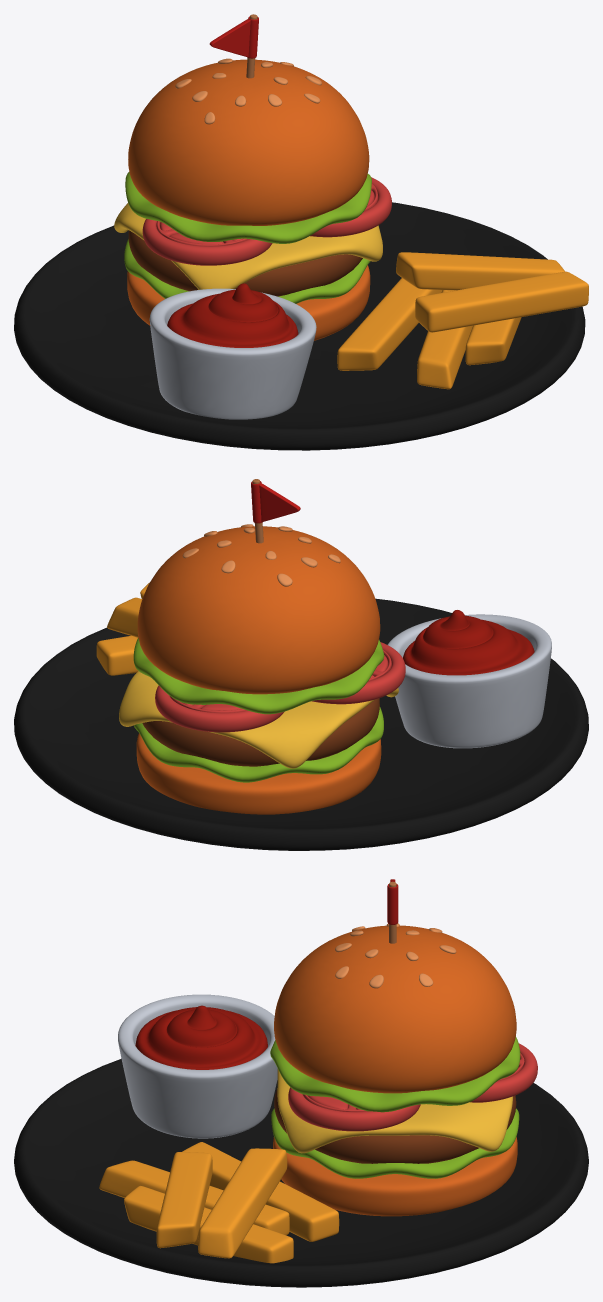
3 renders of one model, top to bottom at view 1: azimuth 30°, elevation 25°; view 2: azimuth 150°, elevation 25°; view 3: azimuth 270°, elevation 25°, orthographic.
Visible parts, largest first — view 1: Circle.012, Circle.007, Circle.010, Cube.016, Circle.011, Plane.003, Circle.006, Cube.015, Cube.012, Circle.002, Circle, Circle.004 (+5 smaller); view 2: Circle.012, Circle.007, Circle.010, Circle, Plane.003, Circle.011, Circle.006, Circle.002, Circle.001, Circle.003, Circle.004, Cube.014 (+2 smaller); view 3: Circle.012, Circle.007, Circle.010, Circle, Circle.011, Plane.003, Cube.015, Circle.006, Circle.002, Cube.016, Circle.001, Cube.012 (+4 smaller).
Part boxes in pixels (box(x1,y1,x2,y2)): Circle.012: box(14, 202, 585, 450); Circle.007: box(128, 59, 369, 225); Circle.010: box(149, 288, 316, 419); Cube.016: box(415, 271, 588, 332); Circle.011: box(167, 283, 298, 347); Plane.003: box(114, 203, 382, 289); Circle.006: box(125, 172, 371, 243); Cube.015: box(396, 252, 564, 290); Cube.012: box(337, 278, 442, 370); Circle.002: box(128, 230, 362, 296); Circle: box(127, 265, 370, 340); Circle.004: box(142, 219, 272, 265); Circle.012: box(14, 598, 588, 850); Circle.007: box(137, 526, 380, 694); Circle.010: box(387, 614, 551, 748); Circle: box(136, 733, 381, 814); Plane.003: box(119, 671, 398, 768); Circle.011: box(403, 610, 534, 675); Circle.006: box(133, 638, 384, 714); Circle.002: box(142, 698, 379, 766); Circle.001: box(134, 707, 383, 782); Circle.003: box(155, 685, 284, 732); Circle.004: box(312, 642, 405, 704); Cube.014: box(96, 635, 138, 675); Circle.012: box(14, 1058, 588, 1287); Circle.007: box(274, 925, 516, 1093); Circle.010: box(118, 994, 277, 1138); Circle: box(273, 1137, 517, 1216); Circle.011: box(135, 1005, 267, 1069); Plane.003: box(277, 1069, 512, 1153); Cube.015: box(198, 1148, 287, 1258); Circle.006: box(270, 1036, 520, 1112); Circle.002: box(274, 1089, 516, 1163); Cube.016: box(156, 1152, 212, 1248); Circle.001: box(271, 1108, 519, 1178); Cube.012: box(182, 1142, 339, 1241).
Size of the model in its own units: 3.29 by 1.95 by 3.29.
